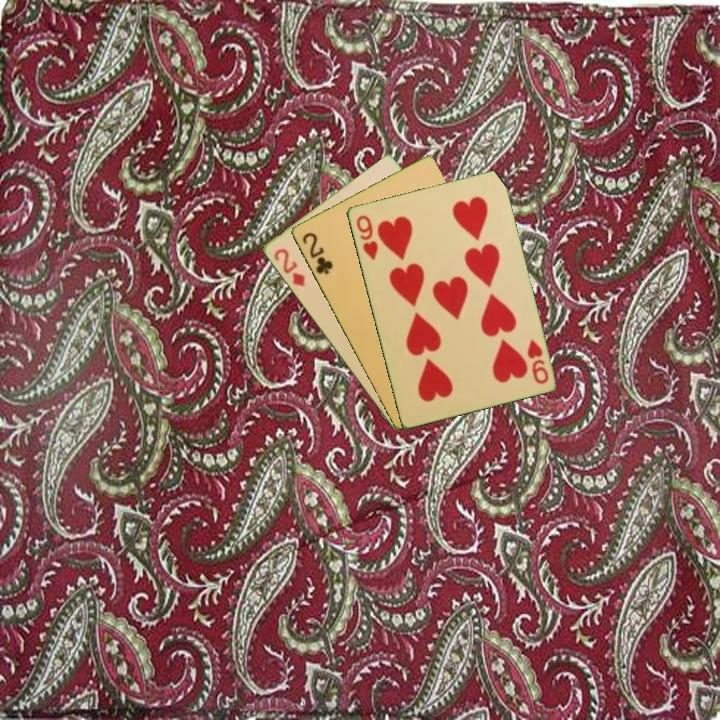2c: (298, 228, 335, 278)
2d: (270, 245, 307, 289)
9h: (352, 211, 381, 263), (523, 336, 551, 387)
